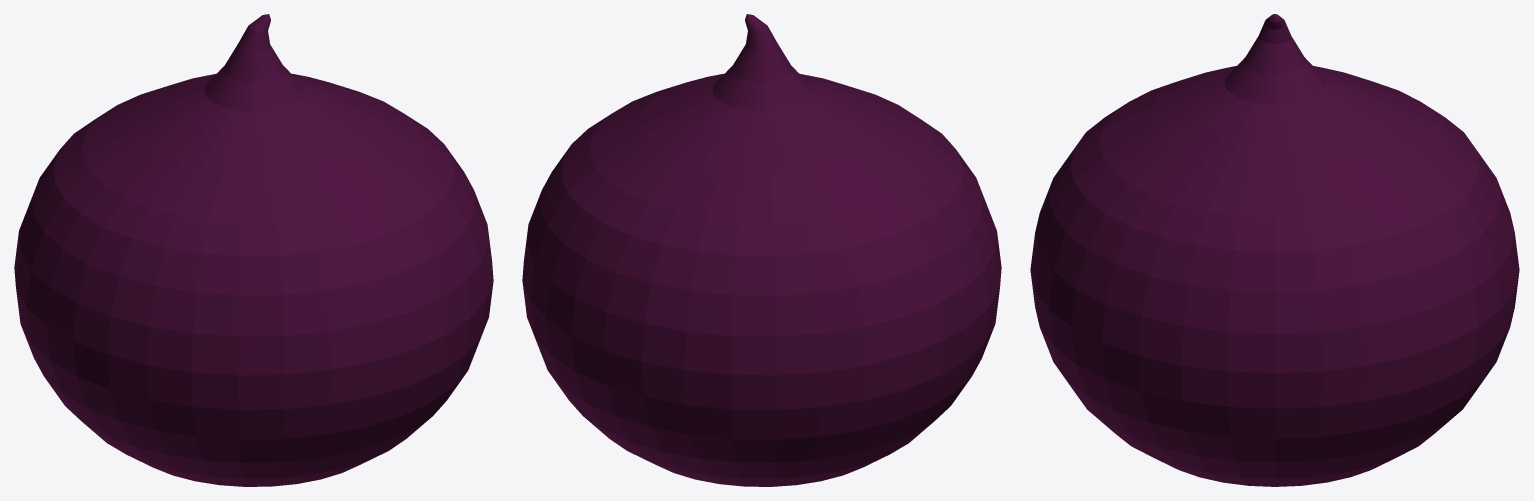
Rendered from onion.glb.
3 views of the same model, side by side, from view 1: azimuth 30°, elevation 25°; view 2: azimuth 150°, elevation 25°; view 3: azimuth 270°, elevation 25° (orthographic).
Visible parts, largest first — view 1: onion-rigid; view 2: onion-rigid; view 3: onion-rigid.
Part boxes in pixels (x1,y1,x2,y2): onion-rigid: (14,14,493,486); onion-rigid: (522,14,1001,486); onion-rigid: (1030,14,1519,486).
Size of the model in its own units: 0.1163 by 0.12 by 0.1163.
